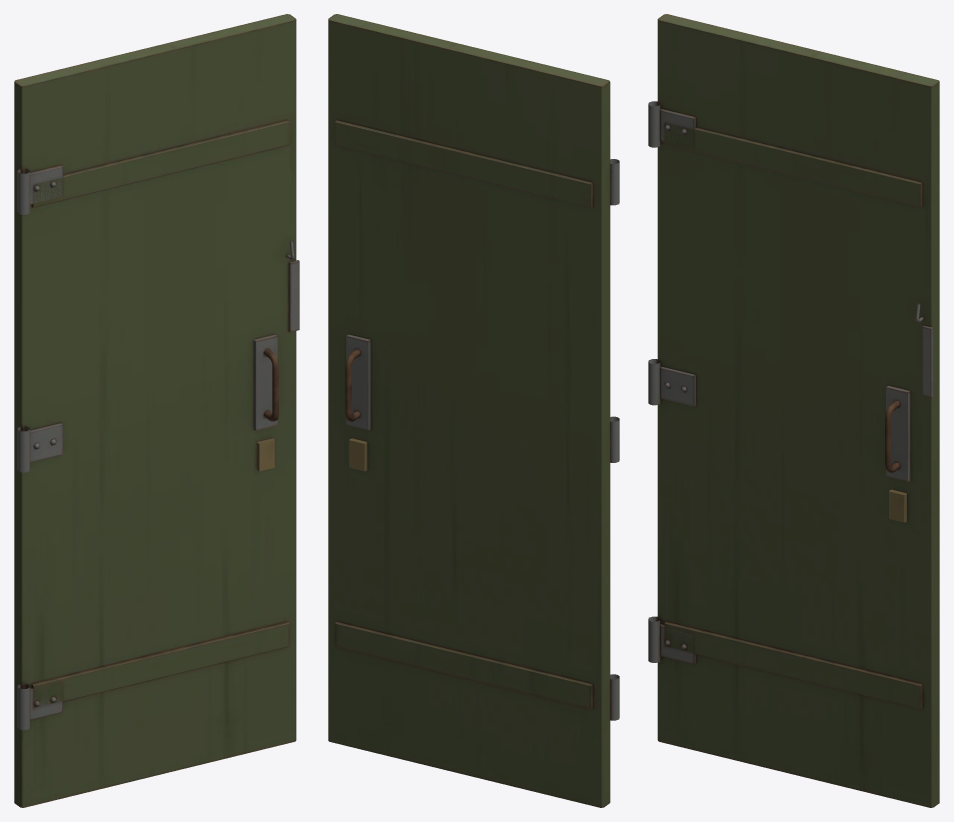
The model's file is door_steel.glb.
3 views of the same model, side by side, from view 1: azimuth 30°, elevation 25°; view 2: azimuth 150°, elevation 25°; view 3: azimuth 330°, elevation 25° (orthographic).
Parts seen in each view (by area): view 1: door_steel; view 2: door_steel; view 3: door_steel.
Part boxes in pixels (bbox=[...]): door_steel: bbox=[14, 14, 299, 807]; door_steel: bbox=[328, 14, 619, 807]; door_steel: bbox=[648, 14, 939, 807].
Size of the model in its own units: 0.86 by 2.1 by 0.1803.
Materials: 1 (1 with a texture image).
